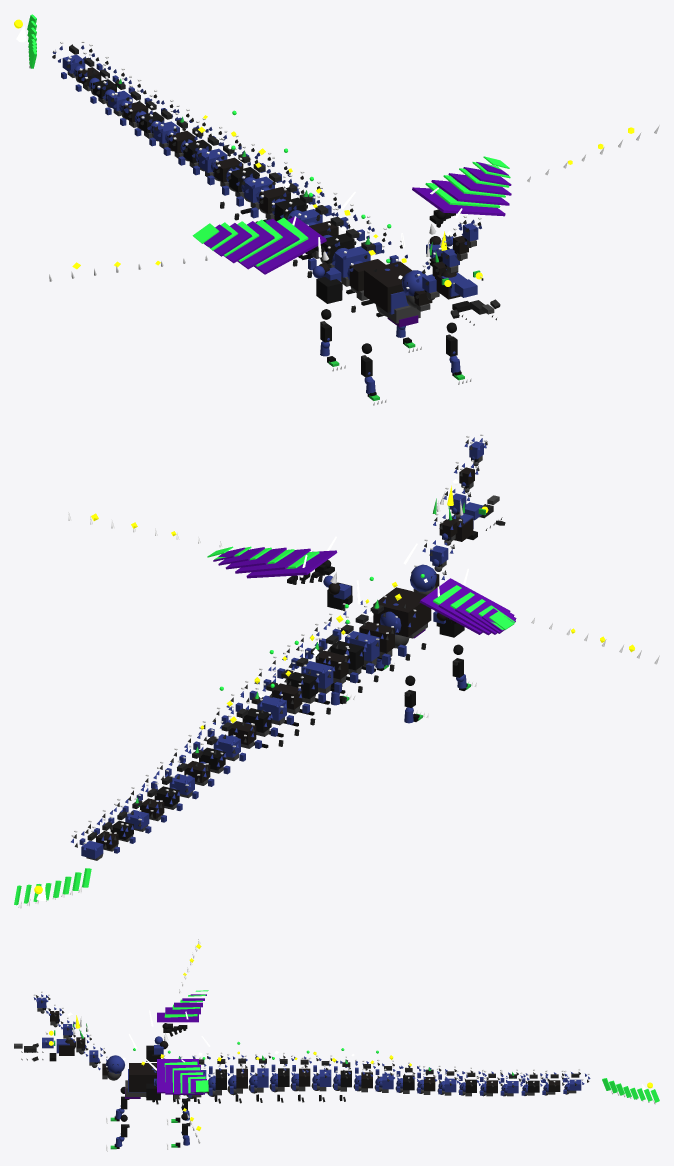
File: StormPunisherB.glb
The picture shows the model from 3 angles, top to bottom: view 1: azimuth 30°, elevation 25°; view 2: azimuth 150°, elevation 25°; view 3: azimuth 270°, elevation 25°; orthographic projection. The views are drawn at different scales.
Visible parts, largest first — view 1: StormPunisherBody, StormPunisherWingL, StormPunisherWingR, StormPunisherHead; view 2: StormPunisherBody, StormPunisherWingR, StormPunisherWingL, StormPunisherHead; view 3: StormPunisherBody, StormPunisherWingR, StormPunisherWingL, StormPunisherHead.
Part boxes in pixels (x1,y1,x2,y2): StormPunisherBody: [14, 14, 481, 405]; StormPunisherWingL: [49, 216, 326, 281]; StormPunisherWingR: [412, 125, 659, 227]; StormPunisherHead: [426, 230, 500, 325]; StormPunisherBody: [14, 434, 487, 908]; StormPunisherWingR: [68, 511, 337, 584]; StormPunisherWingL: [419, 578, 659, 664]; StormPunisherHead: [432, 479, 505, 541]; StormPunisherBody: [33, 991, 659, 1151]; StormPunisherWingR: [157, 1059, 208, 1143]; StormPunisherWingL: [157, 938, 208, 1036]; StormPunisherHead: [14, 1012, 88, 1061].
Size of the model in its own units: 15.58 by 5.11 by 21.21.
